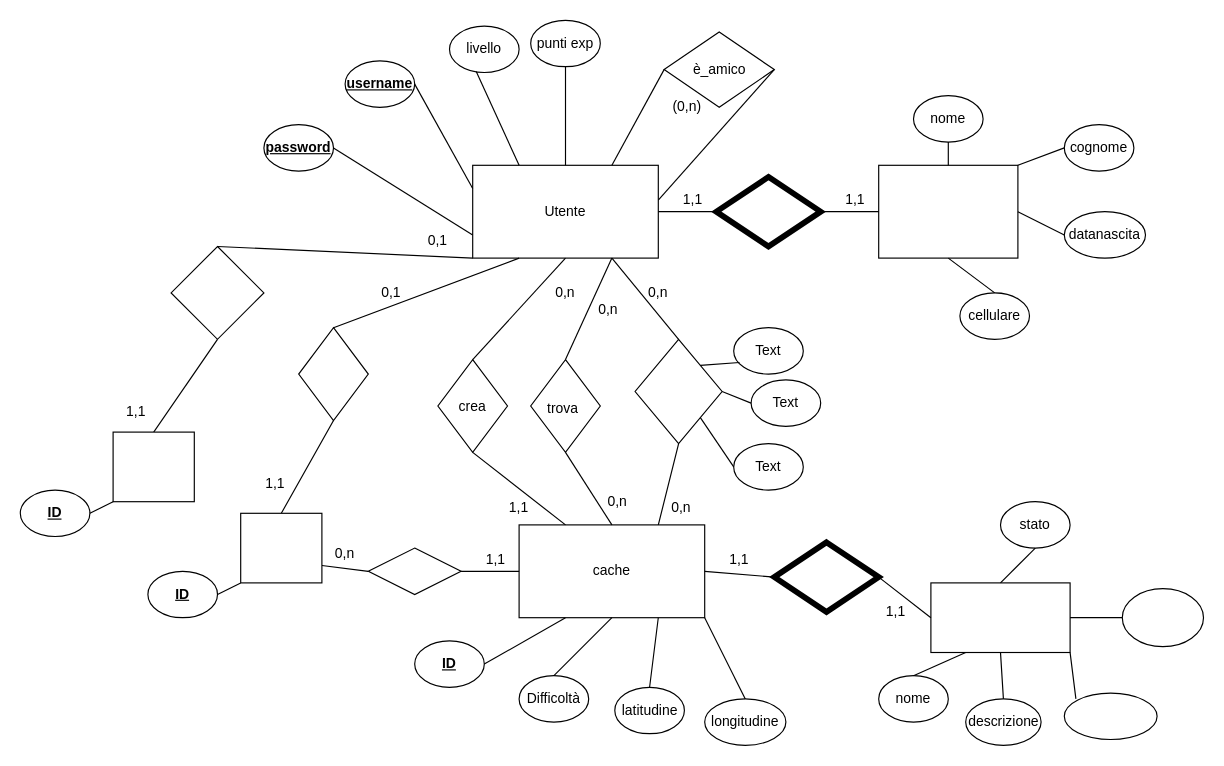
This 1224x766 diagram has some shape labels left out. The shapes that lost their labels are listed below. From the top down, each one's centre as x and y in pixels, then its label:
(768,211): dettagli
(948,211): info utente
(217,292): è_geocacher
(333,373): è_admin
(678,391): trova_e_re censisce
(153,466): geocacher
(281,547): admin
(414,570): Approva
(826,576): info_cache
(1162,617): allegato
(1110,716): parolaOrdine
